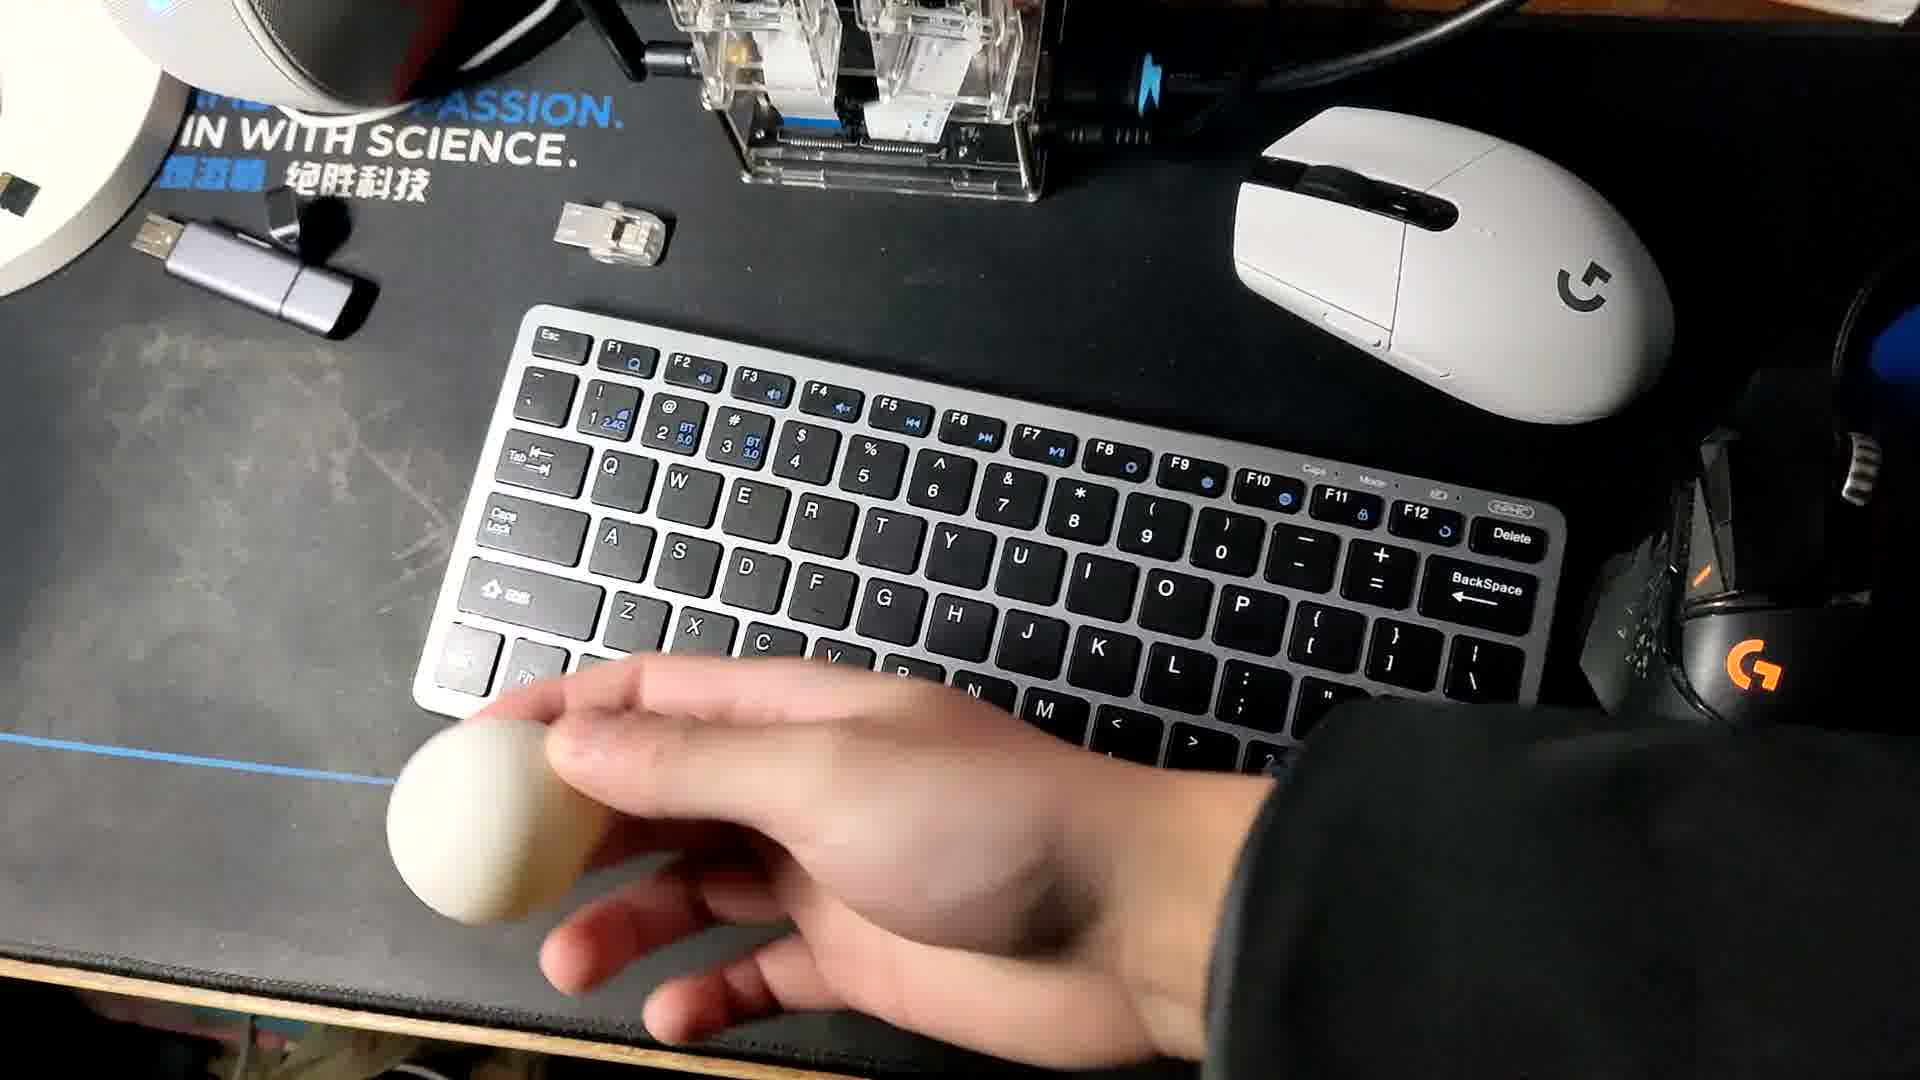Ball: (385, 720, 603, 920)
